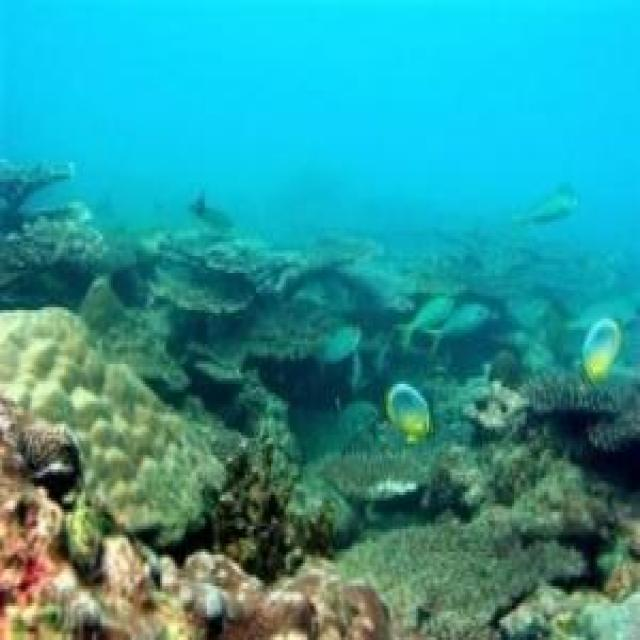bleached coral: (102, 538, 348, 640), (531, 378, 640, 492), (465, 390, 578, 498), (211, 455, 307, 580), (0, 310, 100, 424), (493, 566, 640, 640), (90, 404, 194, 503), (0, 478, 79, 606), (324, 452, 422, 506), (378, 580, 427, 640)
healthy coral: (164, 296, 352, 404), (354, 253, 553, 338), (0, 168, 122, 270), (523, 245, 640, 333), (85, 193, 239, 256)
